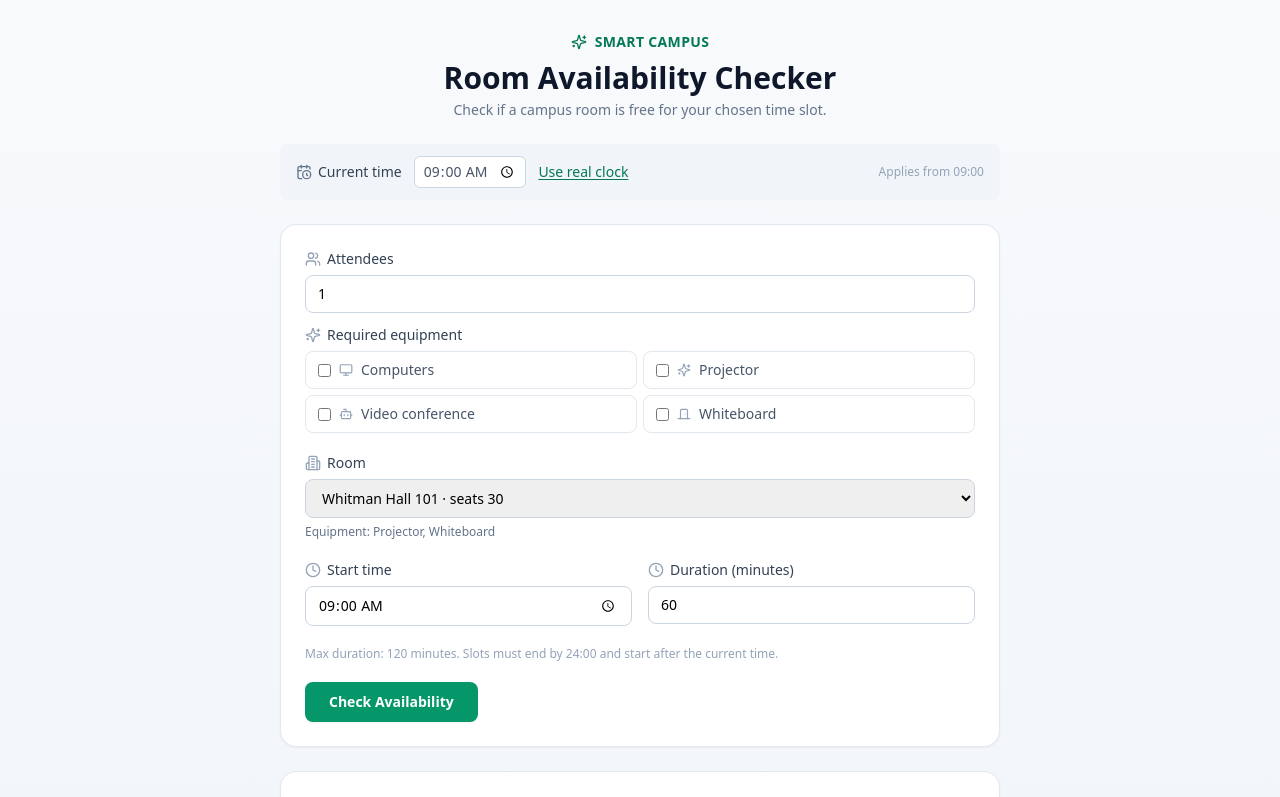
Test case: RoomChecker UI › shows the blocked-room warning for a blocked room
Select "Aurora Center 201 · seats 40 — Blocked" in the dropdown labelled "Room" at (640, 498), box [305,479,975,518]
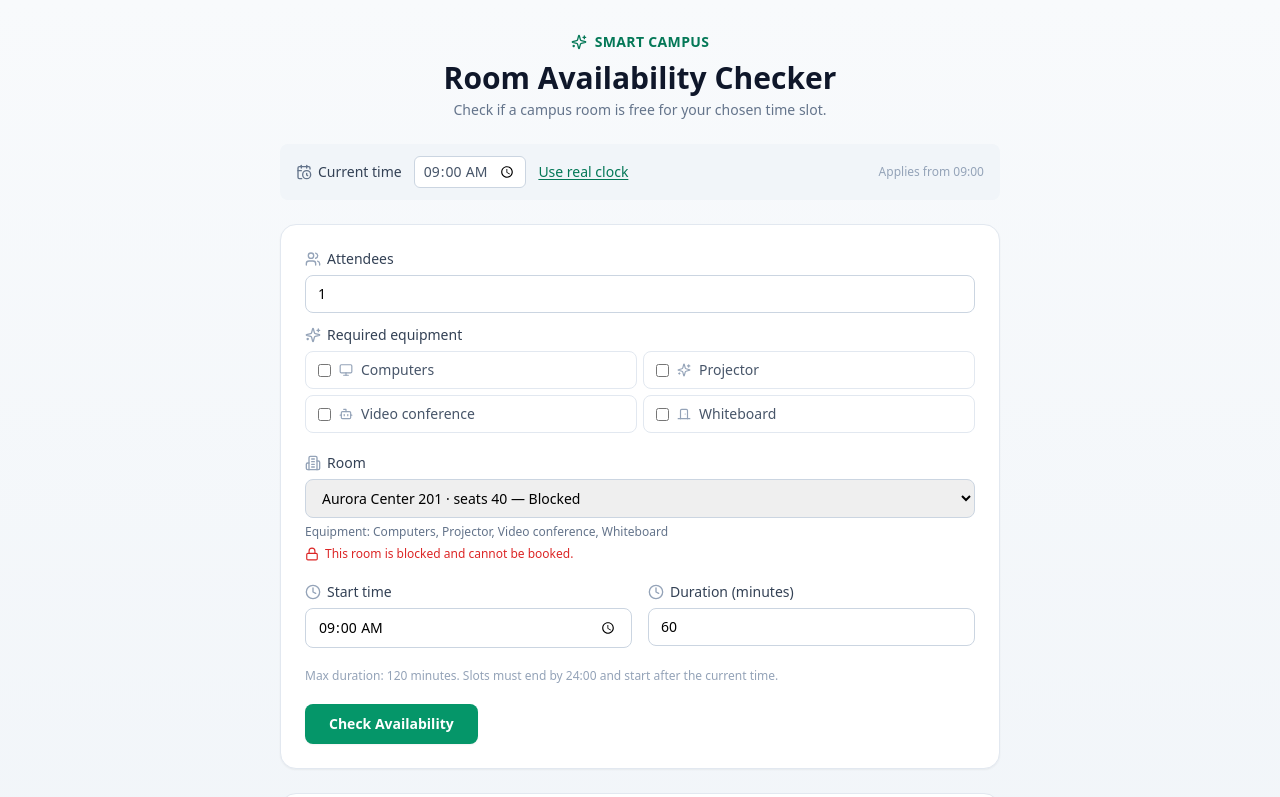
Check: the text "This room is blocked and cannot be booked." is shown, box [305,545,573,562]
